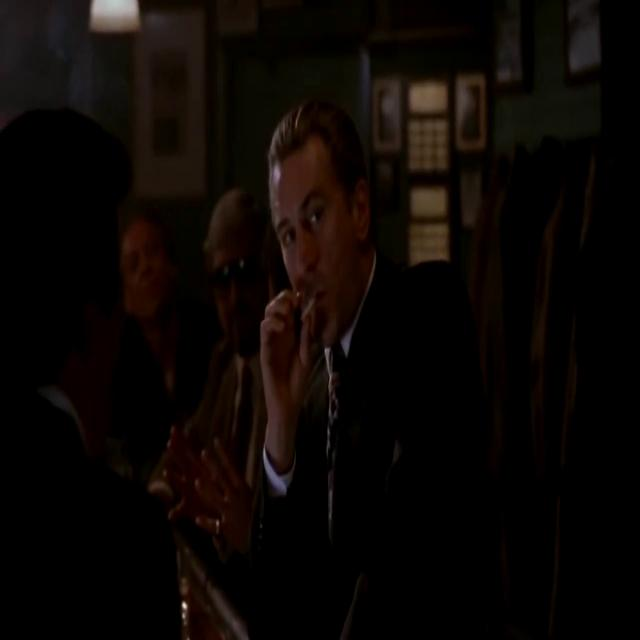Smooking: (293, 283, 319, 333)
